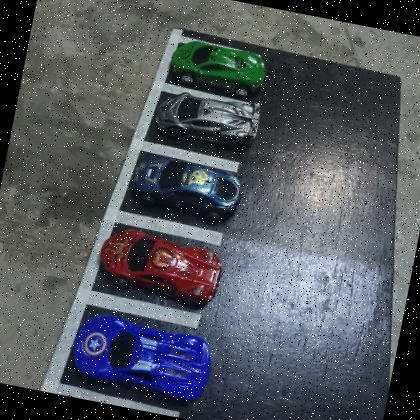Car: (68, 310, 219, 406), (94, 223, 226, 310), (127, 150, 246, 230), (152, 84, 264, 154), (167, 36, 270, 101)
